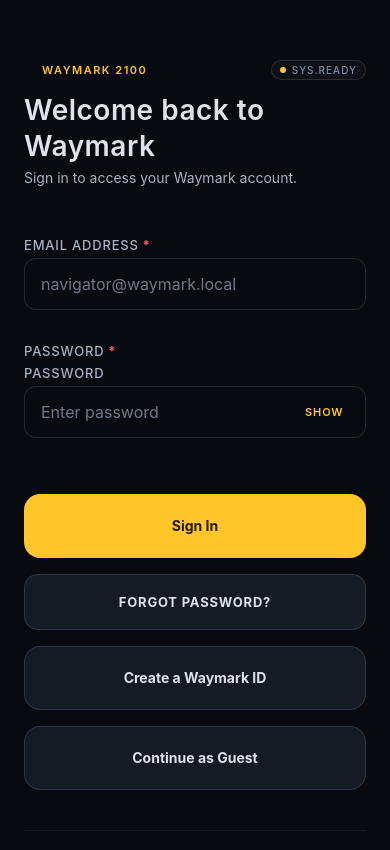
Feature 04.2.2 — Sign-In Screen & Form Validation › TC-04.2.2-05: validates that email address is required
The width and height of the screenshot is (390, 850).
Click the button with test id "btn-submit-sign-in".
click(195, 526)  # box [24,494,366,558]
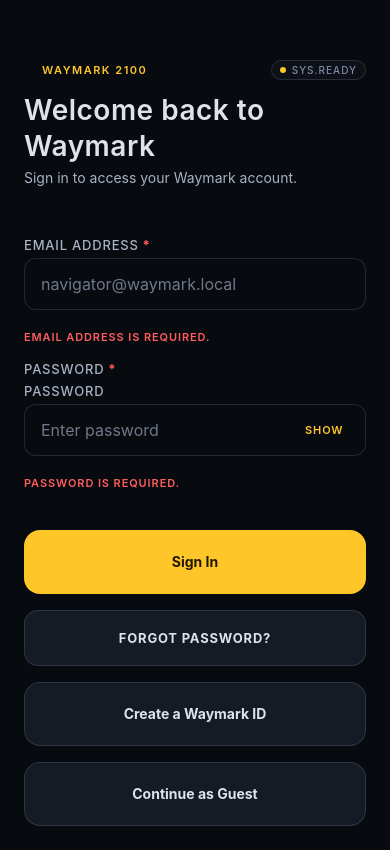
Now the text "Email address is required." is shown, box [24,330,210,344]
